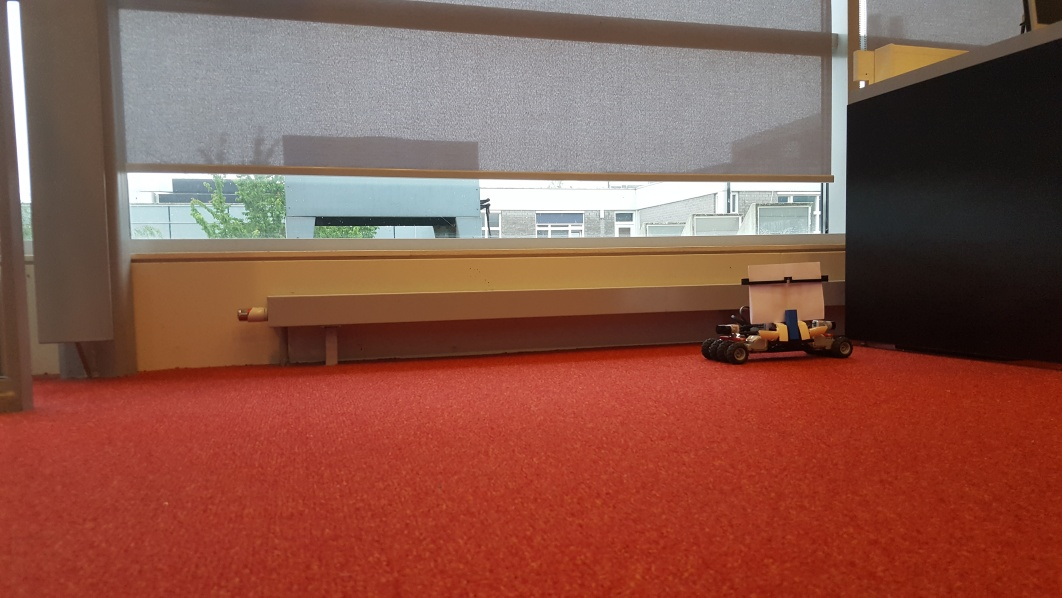car: (700, 262, 862, 363)
